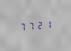one: (42, 19, 49, 29)
seven: (26, 20, 33, 31), (18, 21, 25, 31)
two: (34, 20, 41, 30)
